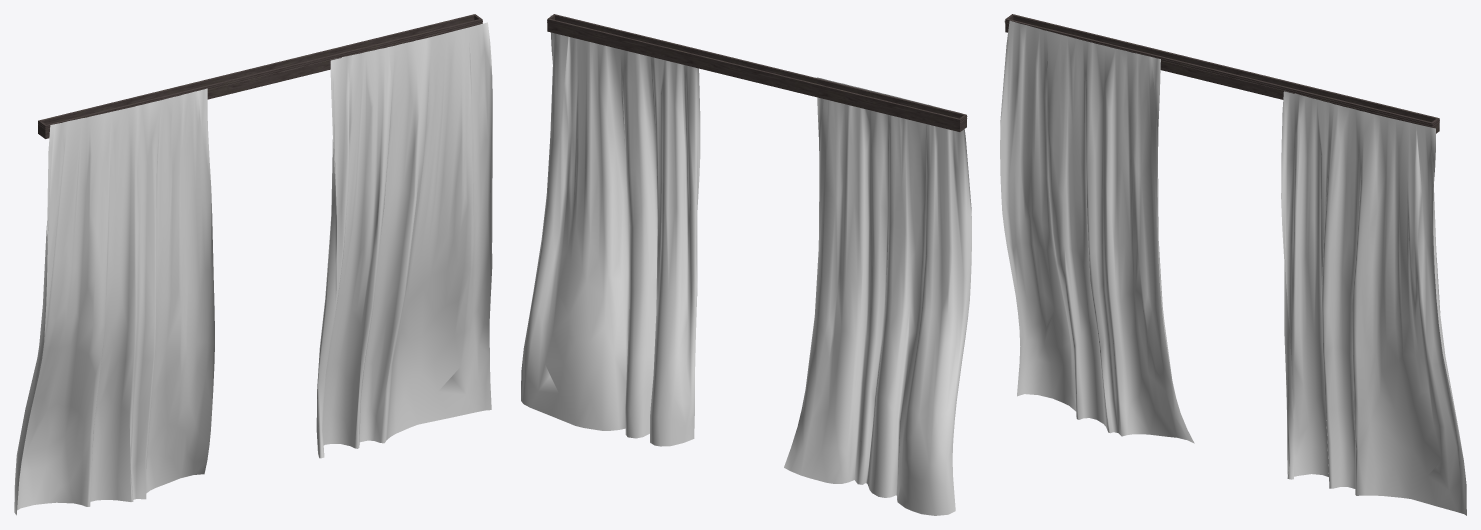
Rendered from curtains.fbx.
3 views of the same model, side by side, from view 1: azimuth 30°, elevation 25°; view 2: azimuth 150°, elevation 25°; view 3: azimuth 330°, elevation 25° (orthographic). The views are drawn at different scales.
Visible parts, largest first — view 1: Curtain_1, Curtain_2, Asta; view 2: Curtain_2, Curtain_1, Asta; view 3: Curtain_2, Curtain_1, Asta.
Boxes of the visible parts, x1,y1,x2,y2 form: Curtain_1: (14, 88, 214, 515); Curtain_2: (316, 22, 492, 458); Asta: (38, 14, 482, 138); Curtain_2: (521, 15, 700, 446); Curtain_1: (784, 77, 971, 515); Asta: (547, 14, 967, 131); Curtain_2: (1281, 91, 1466, 515); Curtain_1: (1000, 20, 1194, 443); Asta: (1004, 14, 1439, 133).
Size of the model in its own units: 171 by 144 by 23.14.
